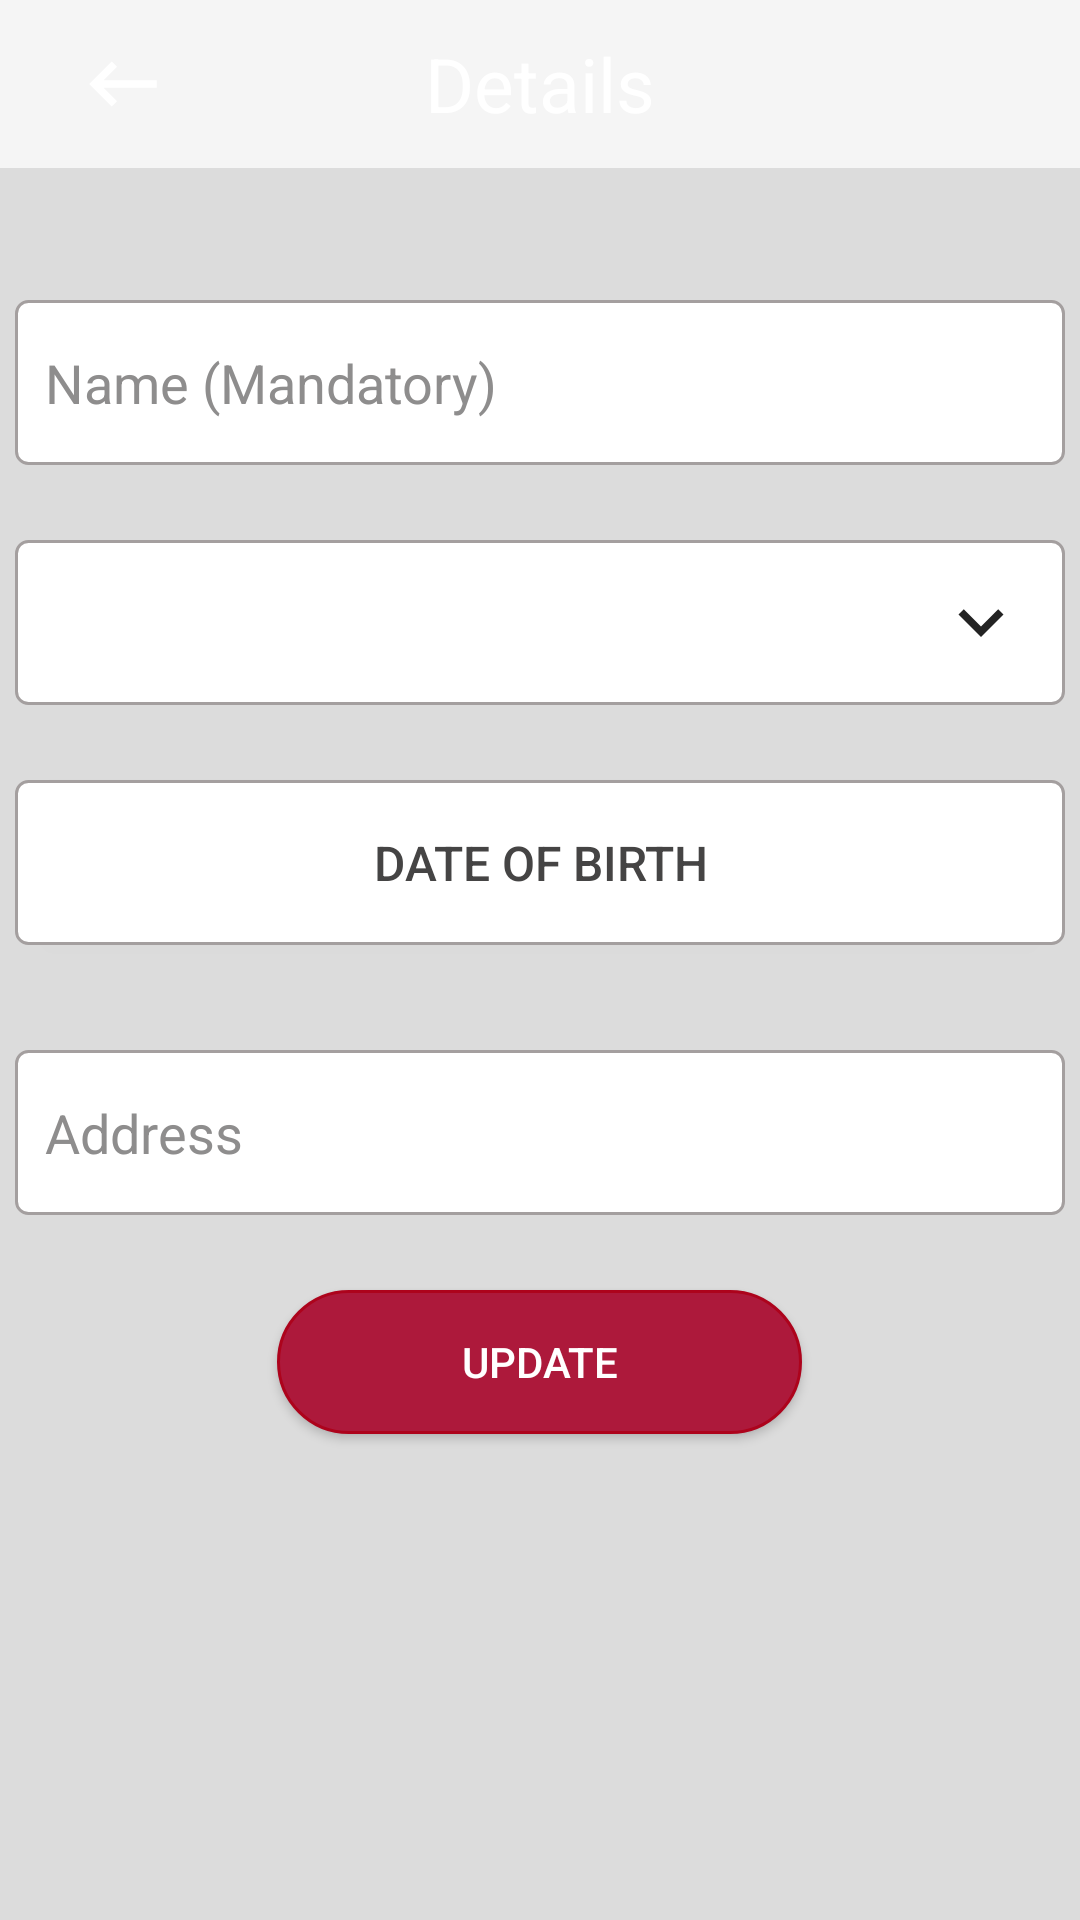

Screen size 1080px x 1920px. Icon name, then its box in pixels as (x1, y1, x2, y2):
down: (958, 609, 1004, 637)
